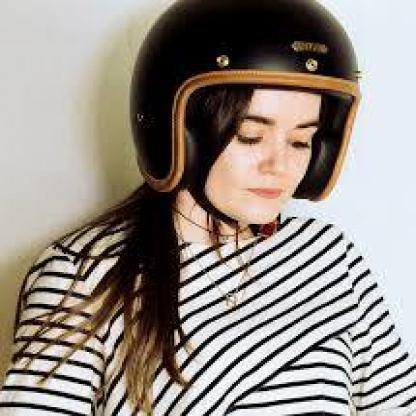helmet: (129, 0, 362, 225)
